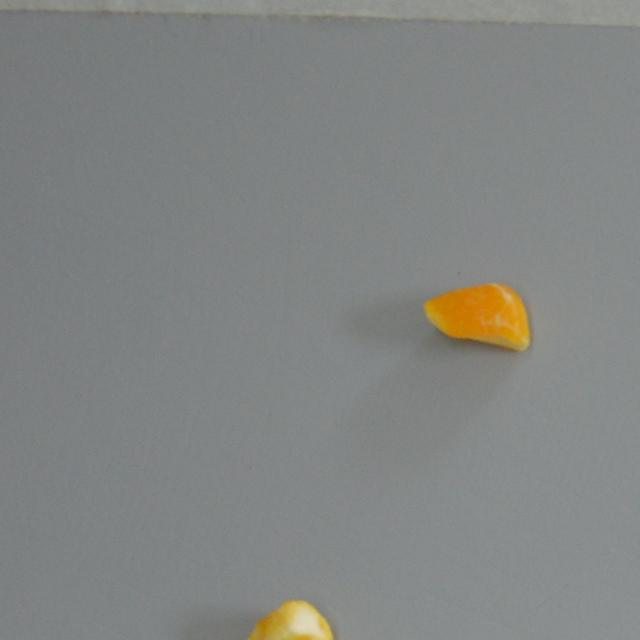estandar: (237, 598, 334, 640)
pelicula: (421, 262, 530, 360)
